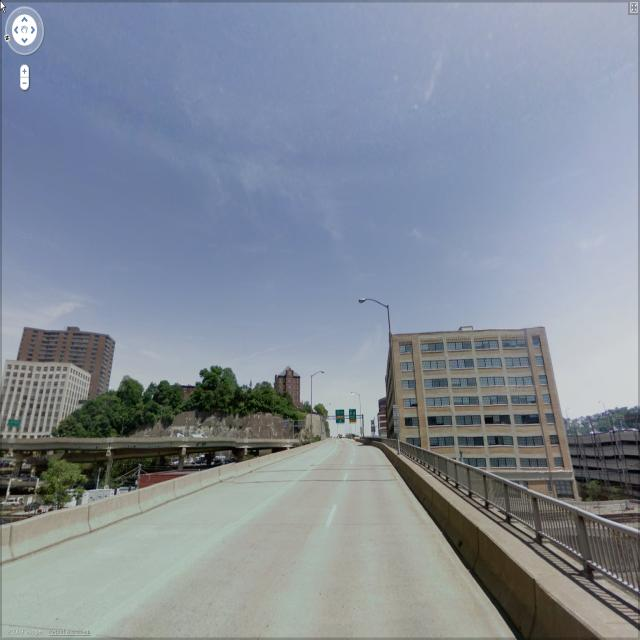b_1: (388, 334, 576, 502), (0, 358, 90, 439), (19, 324, 114, 395), (276, 364, 306, 408), (377, 392, 398, 439)
